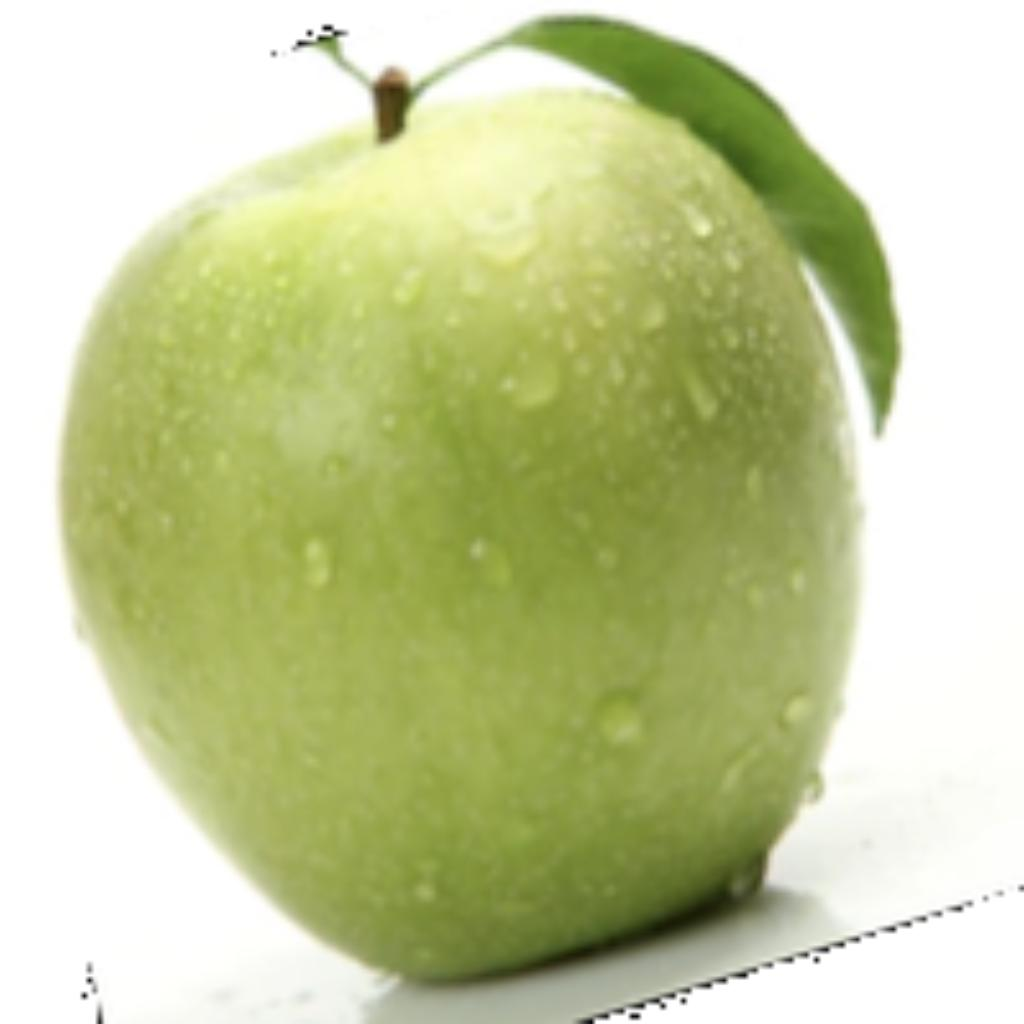apple: (46, 5, 906, 1019)
